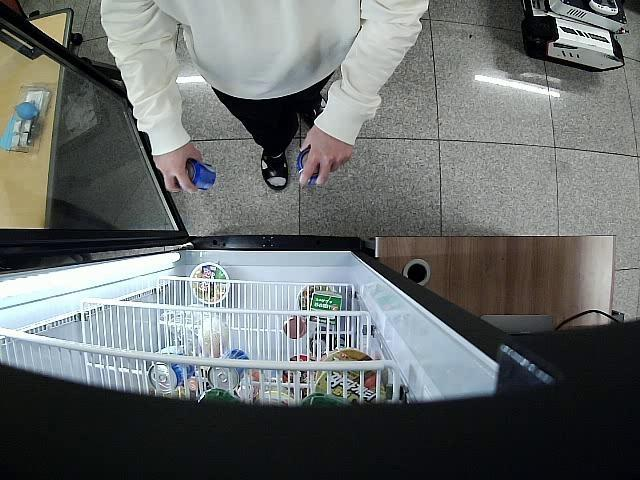13_pocariSweat: (184, 160, 217, 190)
